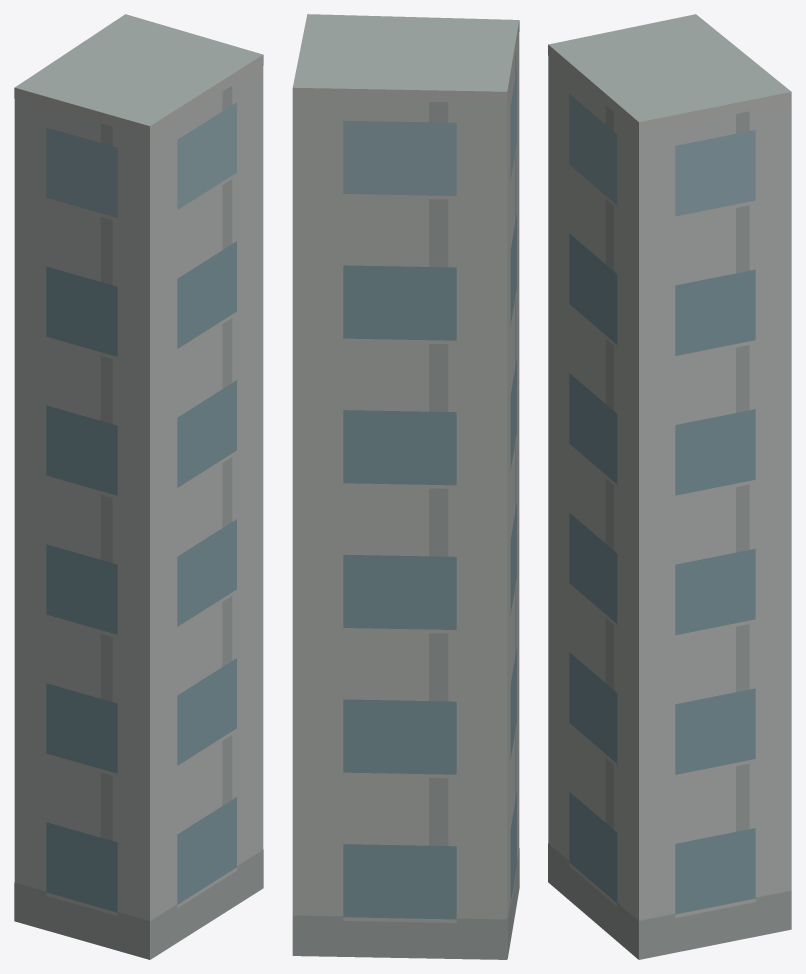
The model's file is survey-upis-32912534.glb.
3 renders of one model, left to right at view 1: azimuth 30°, elevation 25°; view 2: azimuth 150°, elevation 25°; view 3: azimuth 270°, elevation 25°, orthographic. The views are drawn at different scales.
Visible parts, largest first — view 1: survey-upis-32912534.tmp; view 2: survey-upis-32912534.tmp; view 3: survey-upis-32912534.tmp.
Boxes of the visible parts, box(x1,y1,x2,y2) form: survey-upis-32912534.tmp: box(14, 14, 263, 959); survey-upis-32912534.tmp: box(292, 14, 519, 959); survey-upis-32912534.tmp: box(548, 14, 791, 959).
Size of the model in its own units: 5.08 by 18.3 by 4.83.
